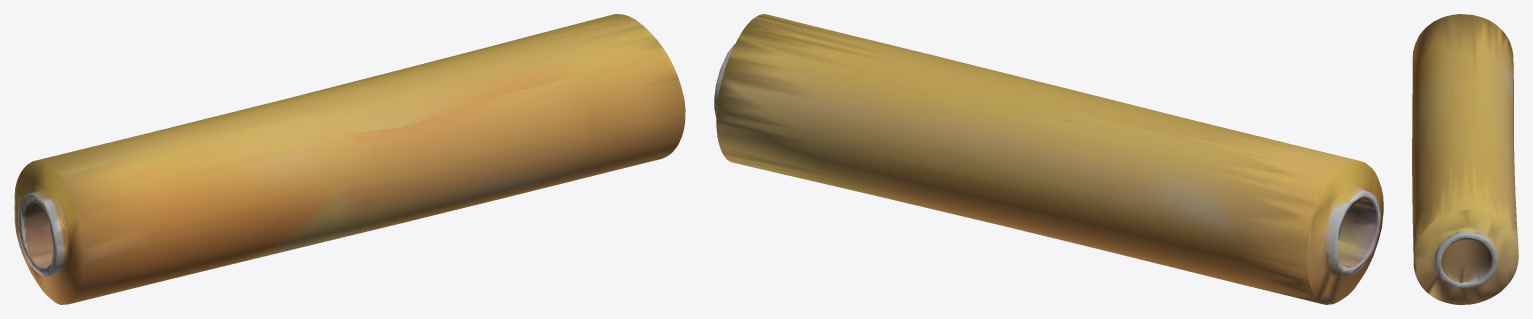
File: react-plastic_wrap-BaStxGKB.glb
3 views of the same model, side by side, from view 1: azimuth 30°, elevation 25°; view 2: azimuth 150°, elevation 25°; view 3: azimuth 270°, elevation 25° (orthographic). The views are drawn at different scales.
Visible parts, largest first — view 1: Meshy_texture_pbr_v128; view 2: Meshy_texture_pbr_v128; view 3: Meshy_texture_pbr_v128.
Part boxes in pixels (x1,y1,x2,y2): Meshy_texture_pbr_v128: (14,14,685,304); Meshy_texture_pbr_v128: (714,14,1383,304); Meshy_texture_pbr_v128: (1412,14,1518,304).
Size of the model in its own units: 0.2553 by 0.0534 by 0.0546.
Materials: 1 (1 with a texture image).
